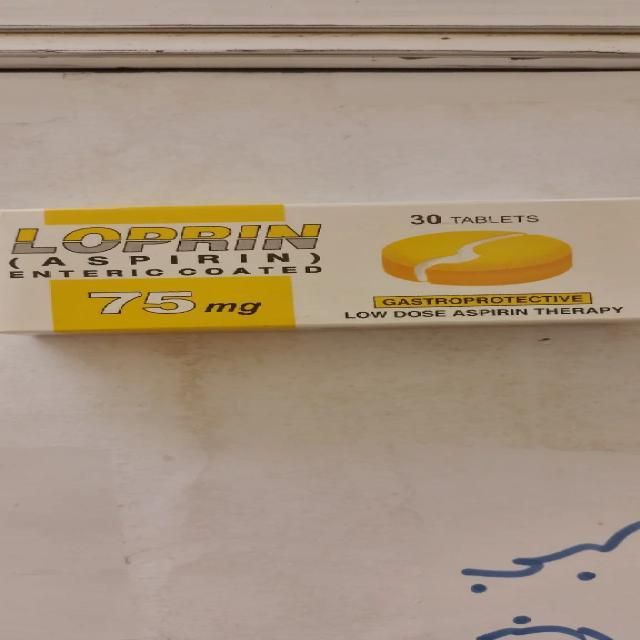drug-name: (5, 225, 326, 251)
